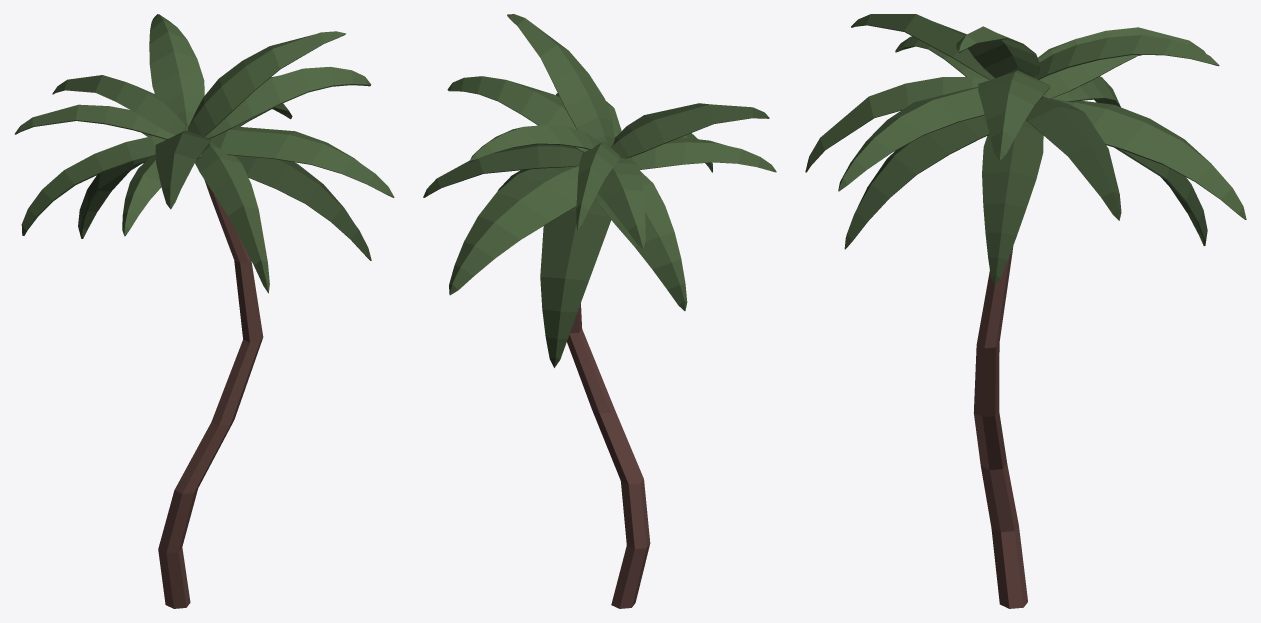
File: PalmTree_Harvested.glb
3 renders of one model, left to right at view 1: azimuth 30°, elevation 25°; view 2: azimuth 150°, elevation 25°; view 3: azimuth 270°, elevation 25°, orthographic. The views are drawn at different scales.
Visible parts, largest first — view 1: PalmTree_Harvested; view 2: PalmTree_Harvested; view 3: PalmTree_Harvested.
Boxes of the visible parts, x1=… form: PalmTree_Harvested: x1=14, y1=14, x2=394, y2=608; PalmTree_Harvested: x1=423, y1=14, x2=776, y2=608; PalmTree_Harvested: x1=805, y1=14, x2=1246, y2=608.
Bounding box in the file's own units: 1.81 × 3.25 × 2.05.
